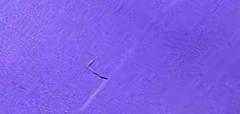snag: (83, 56, 113, 86)
